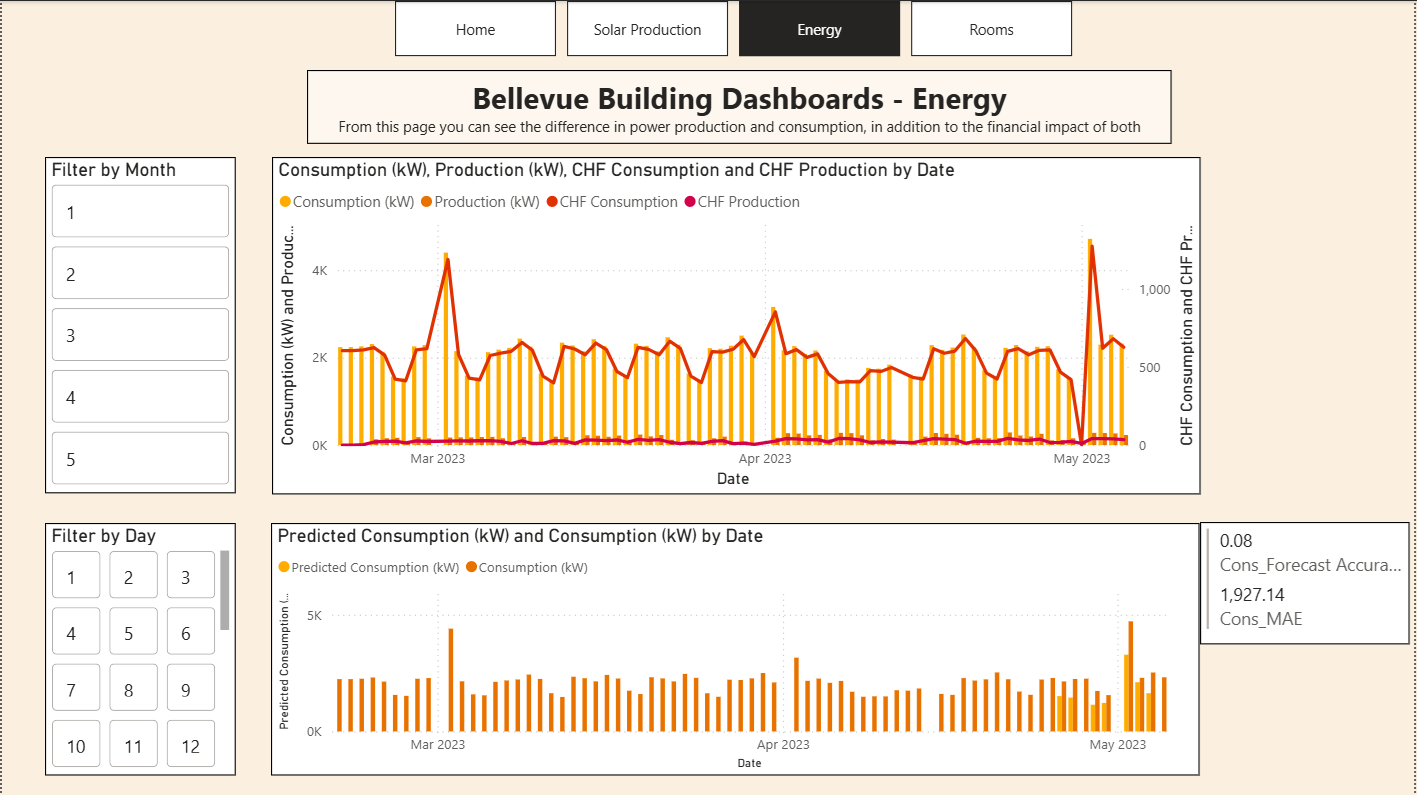

This screenshot's page, from the dashboard's own definition file:
{"tool":"powerbi","page":{"name":"Energy","canvas":[1280,720],"ordinal":2},"visuals":[{"type":"textbox","box":[276.7,62.2,784.4,66.7],"z":0},{"type":"lineClusteredColumnComboChart","fields":{"Category":["DimTime.Full Date"],"Y2":["Power_FactTable.CHF Consumption","Power_FactTable.CHF Production"],"Y":["Power_FactTable.Consumption (kW)","Power_FactTable.Production (kW)"]},"box":[244.4,141.1,842.2,305.6],"z":1000},{"type":"pageNavigator","box":[356.7,0,617.8,50],"z":2000},{"type":"advancedSlicerVisual","fields":{"Values":["DimTime.Month"]},"box":[39.1,141.1,173.5,305],"z":3000},{"type":"advancedSlicerVisual","fields":{"Values":["DimTime.Day"]},"box":[38.9,473.3,173.3,228.9],"z":4000},{"type":"clusteredColumnChart","fields":{"Y":["Power_FactTable.Predicted_Daily_kW_Consumption","Power_FactTable.Consumption (kW)"],"Category":["DimTime.Full Date"]},"box":[244,473,842,229],"z":5000},{"type":"multiRowCard","fields":{"Values":["Prediction_FactTable.Cons_Forecast Accuracy %","Prediction_FactTable.Cons_MAE"]},"box":[1086.5,472.7,189.7,110.6],"z":6000}]}

Visuals, with their boxes in screenshot pixels (x1, y1, x2, y2), scaled from the page's 1280x720 canvas onto the 1417x795 screenshot:
textbox: 306 69 1175 142
lineClusteredColumnComboChart - DimTime.Full Date x Power_FactTable.CHF Consumption: 271 156 1203 493
pageNavigator: 395 0 1079 55
advancedSlicerVisual - DimTime.Month: 43 156 235 493
advancedSlicerVisual - DimTime.Day: 43 523 235 775
clusteredColumnChart - Power_FactTable.Predicted_Daily_kW_Consumption x Power_FactTable.Consumption (kW): 270 522 1202 775
multiRowCard - Prediction_FactTable.Cons_Forecast Accuracy % x Prediction_FactTable.Cons_MAE: 1203 522 1413 644
